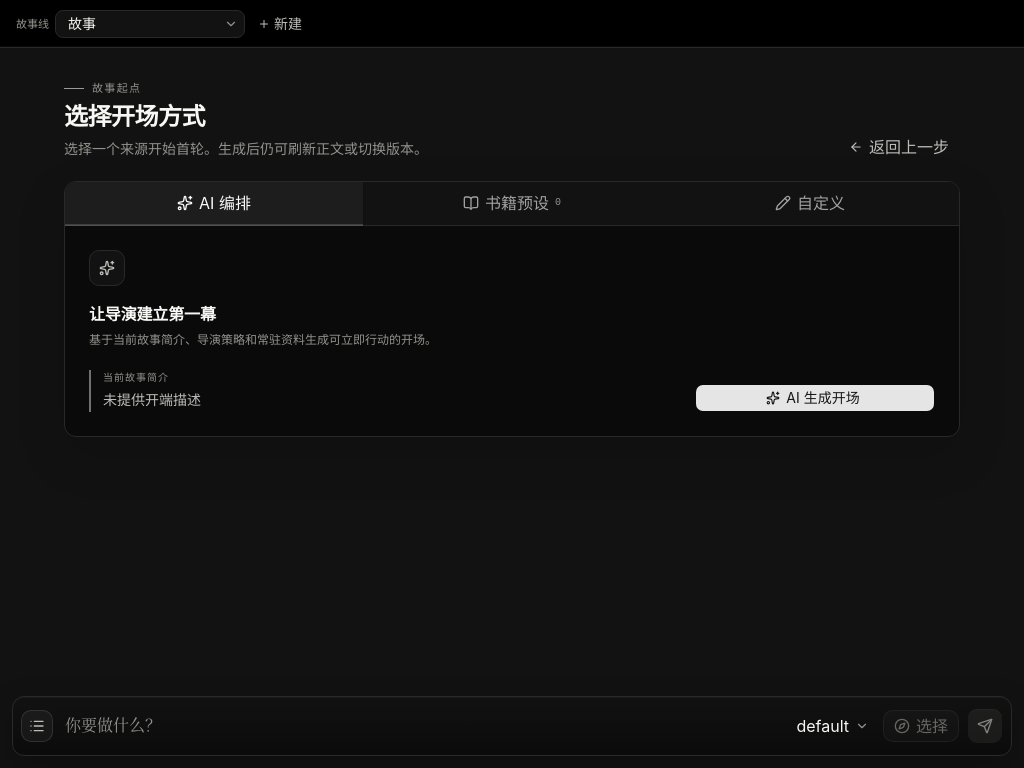
StoryStage TurnResult choices › does not open persisted choices when they arrive during the story stream
Step 1. Type "推门" into the field with placeholder "你要做什么？" → (422, 726), box [65,714,778,738]
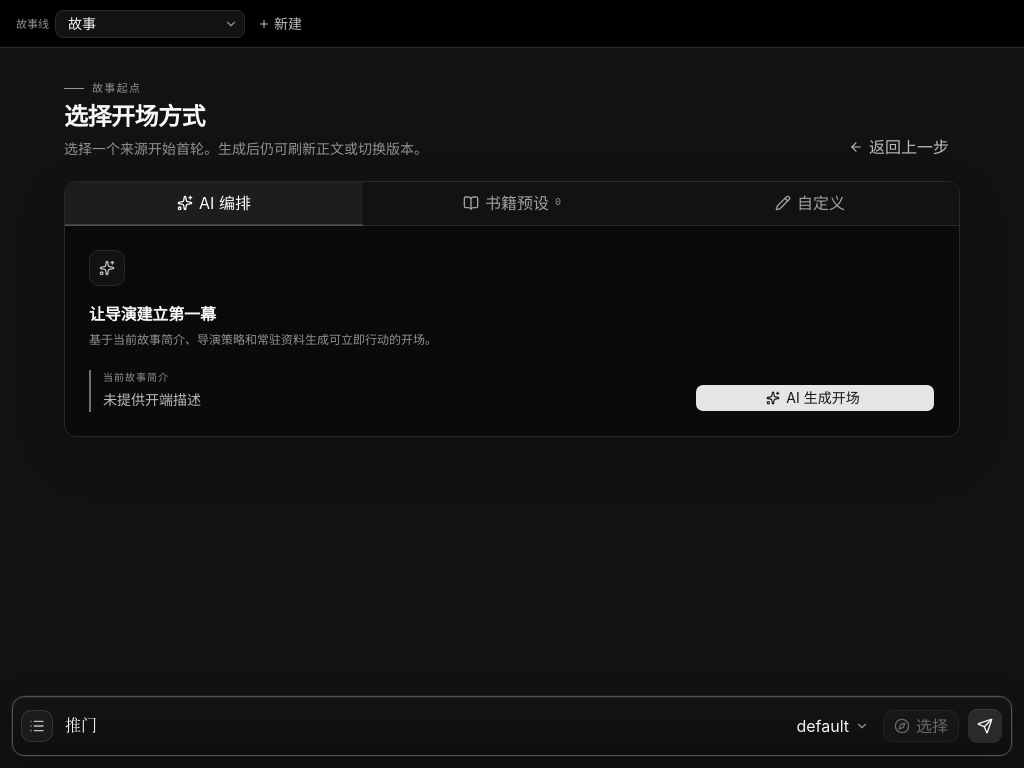
Step 2. Click the button named "发送" → (985, 726), box [967,708,1003,744]
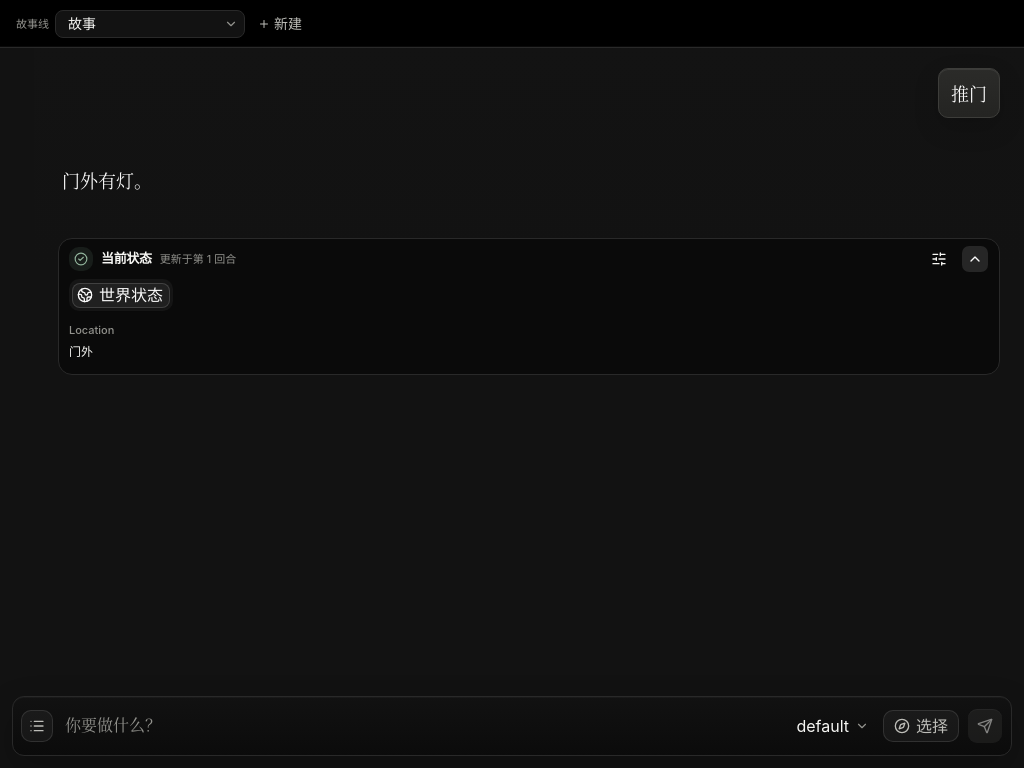
Expected: the text "沿墙观察" is not shown
Now the button with aria-label "获取行动选择" is enabled
Step 3. Click the button with aria-label "获取行动选择" → (921, 726), box [883,710,959,742]
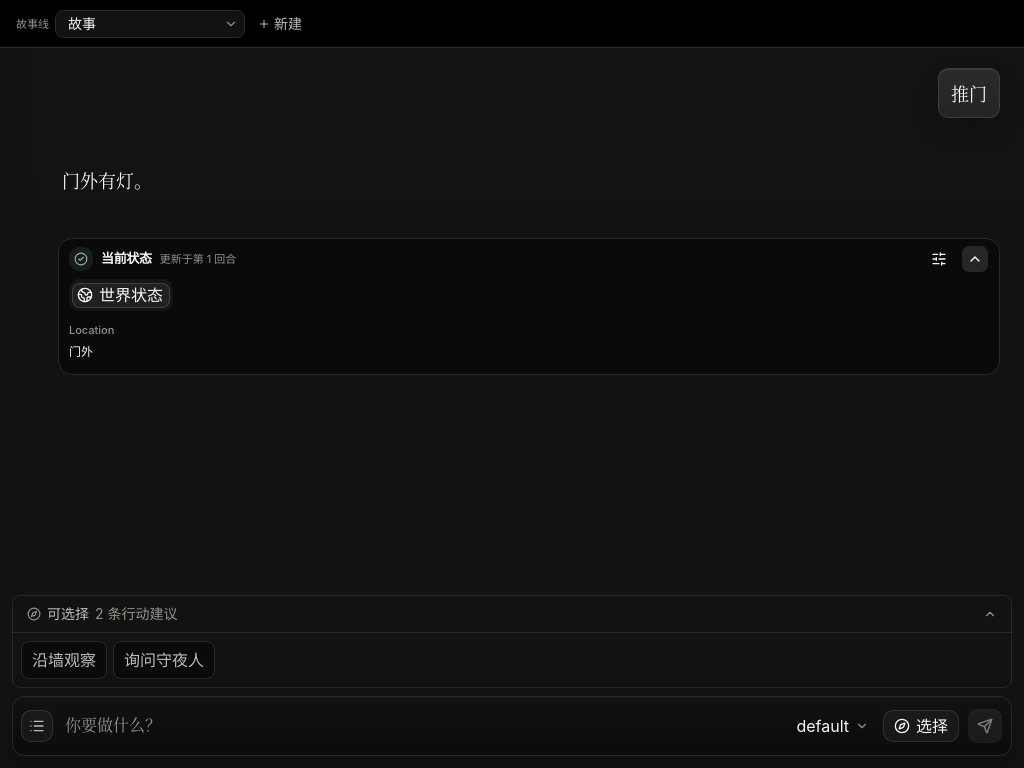
Now the text "沿墙观察" is shown, box [32,648,96,672]
